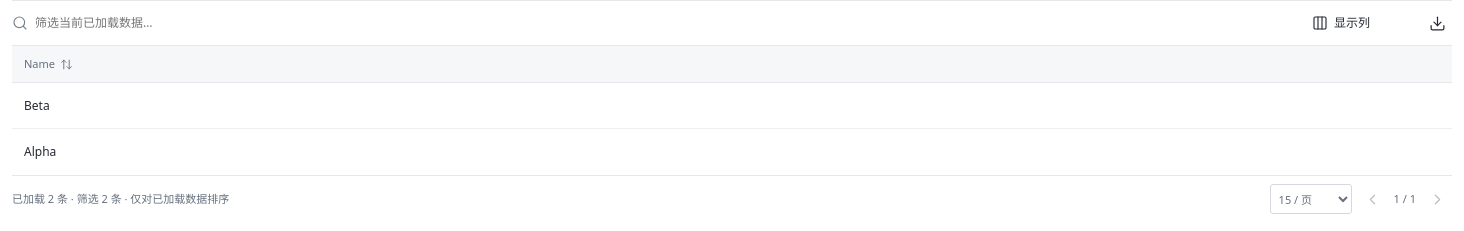
Test: R08 shared research table › filters, sorts and hides columns
The width and height of the screenshot is (1464, 231).
Click the button "Name" at (40, 63), box [24, 46, 1440, 82]
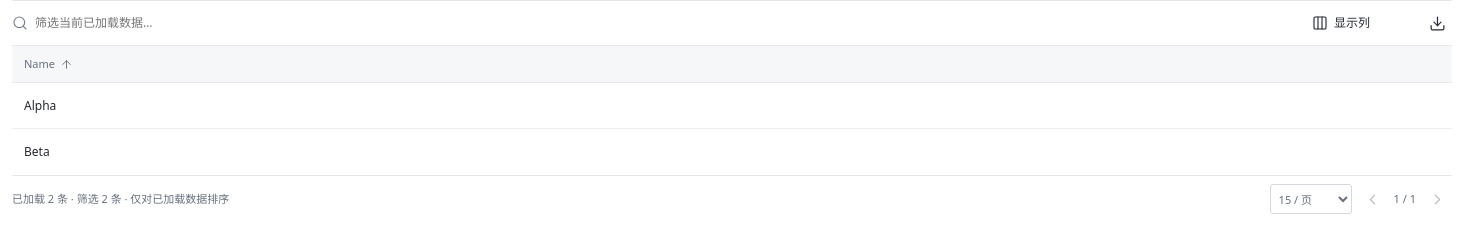
Expected: the row "Alpha" is shown, [12, 83, 1452, 129]
Type "Beta" into the field named "筛选 test" at (164, 23), box [35, 9, 292, 37]
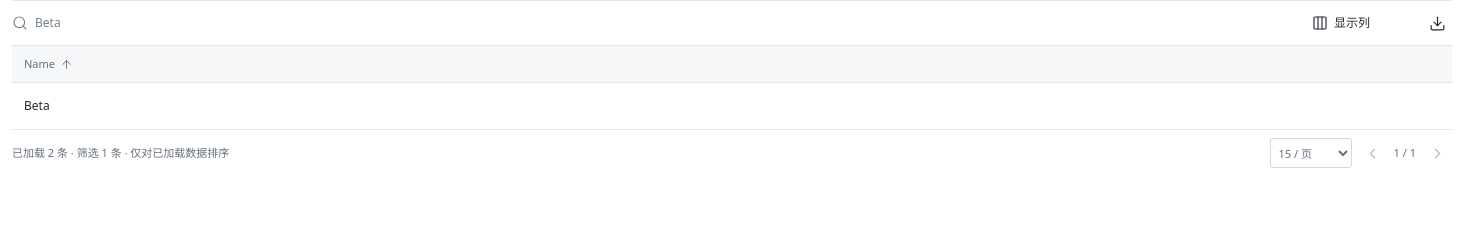
Expected: the text "Beta" is shown, [12, 83, 1452, 129]
Expected: the text "Alpha" is gone
